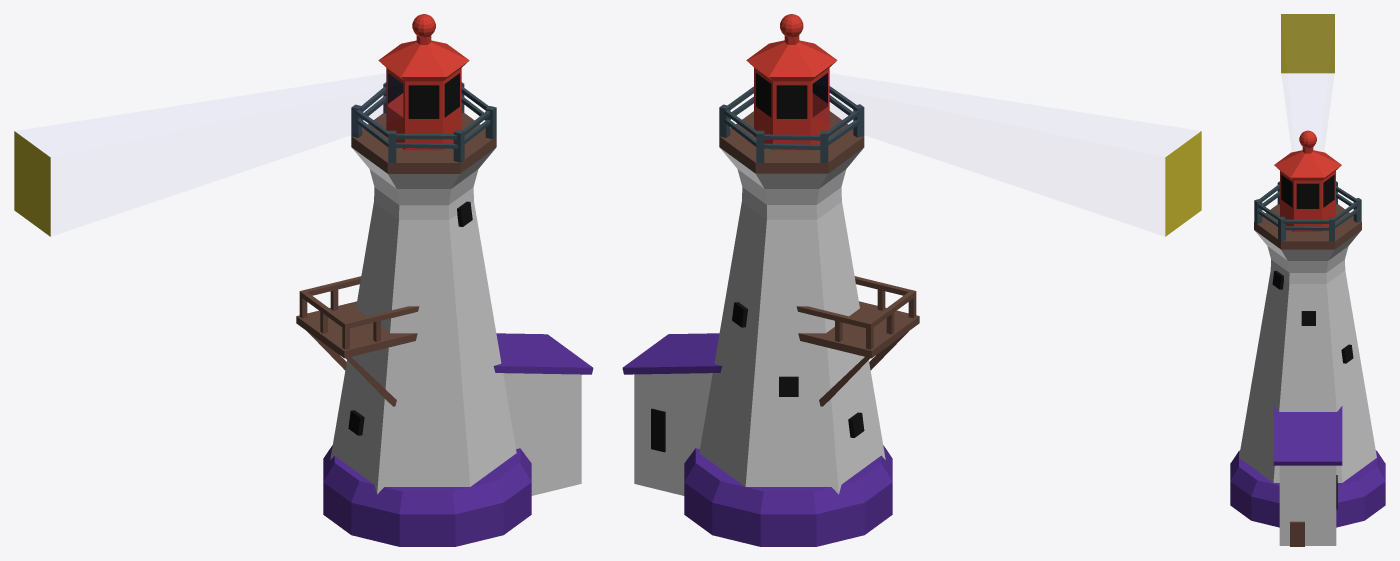
3 renders of one model, left to right at view 1: azimuth 30°, elevation 25°; view 2: azimuth 150°, elevation 25°; view 3: azimuth 270°, elevation 25°, orthographic. The views are drawn at different scales.
Visible parts, largest first — view 1: node_MeshObject710344640-PolyPaper21; view 2: node_MeshObject710344640-PolyPaper21; view 3: node_MeshObject710344640-PolyPaper21.
Boxes of the visible parts, box(x1,y1,x2,y2) form: node_MeshObject710344640-PolyPaper21: box(14, 14, 593, 546); node_MeshObject710344640-PolyPaper21: box(622, 14, 1201, 546); node_MeshObject710344640-PolyPaper21: box(1230, 14, 1385, 546).
Size of the model in its own units: 1.56 by 1.35 by 0.5216.
